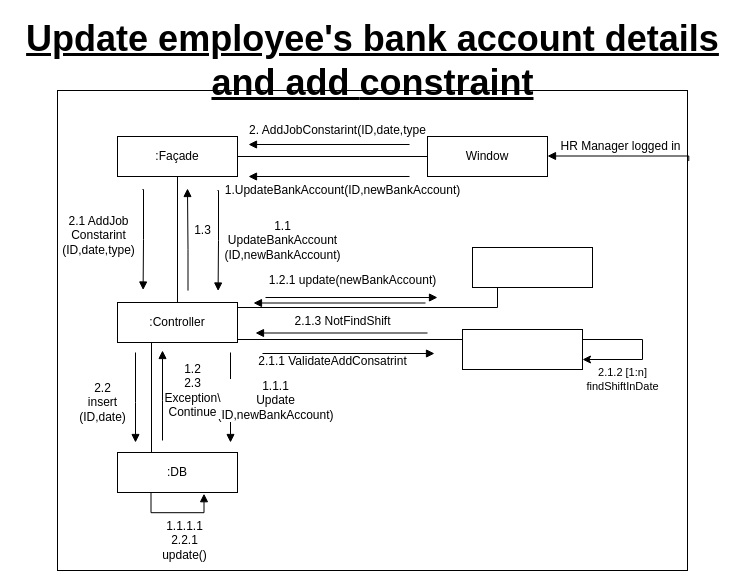
Image size: 744x588. Some labels were removed from this diagram. The centre of each missing label's shape, as x and y in pixels:
":Employee" belongs at (x=532, y=267).
":Shift" belongs at (x=522, y=349).
